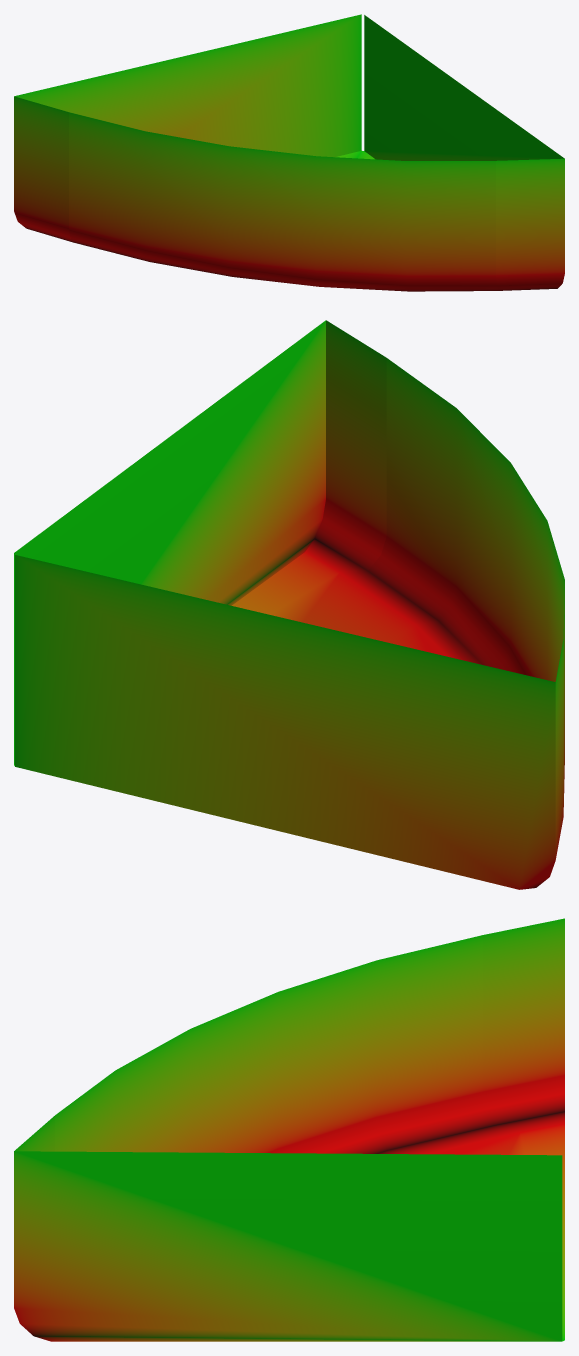
File: CeilingSupportV1Out.fbx
3 renders of one model, top to bottom at view 1: azimuth 30°, elevation 25°; view 2: azimuth 150°, elevation 25°; view 3: azimuth 270°, elevation 25°, orthographic. The views are drawn at different scales.
Parts seen in each view (by area): view 1: CeilingSupportV1Out; view 2: CeilingSupportV1Out; view 3: CeilingSupportV1Out.
Boxes of the visible parts, <box> form: CeilingSupportV1Out: <box>14,14,564,291</box>; CeilingSupportV1Out: <box>14,320,564,889</box>; CeilingSupportV1Out: <box>14,918,564,1341</box>.
Size of the model in its own units: 105 by 40 by 105.
